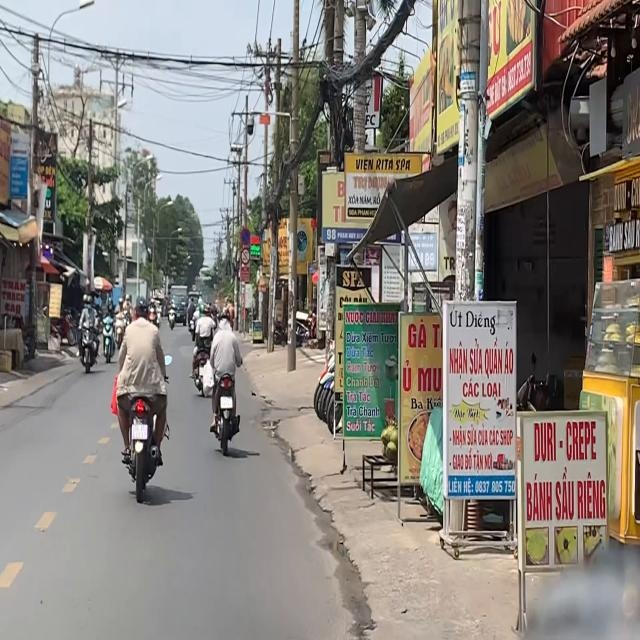bien_cam: (240, 228, 250, 245)
